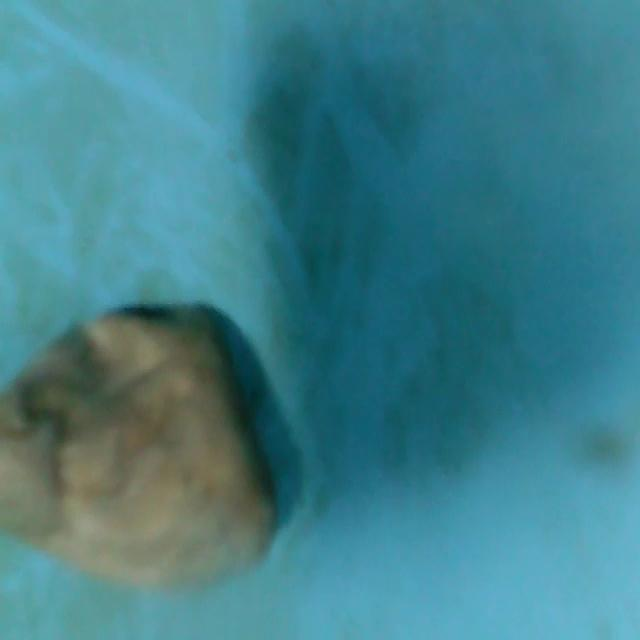rock: (0, 308, 282, 600)
